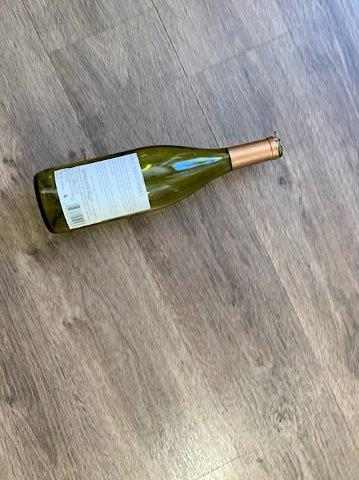botolkaca: (33, 134, 284, 235)
